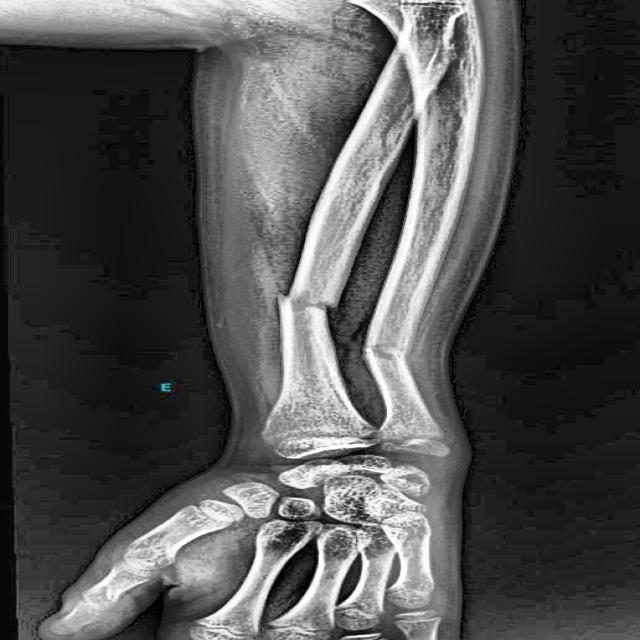angle: (270, 291, 338, 316), (360, 344, 413, 364)
